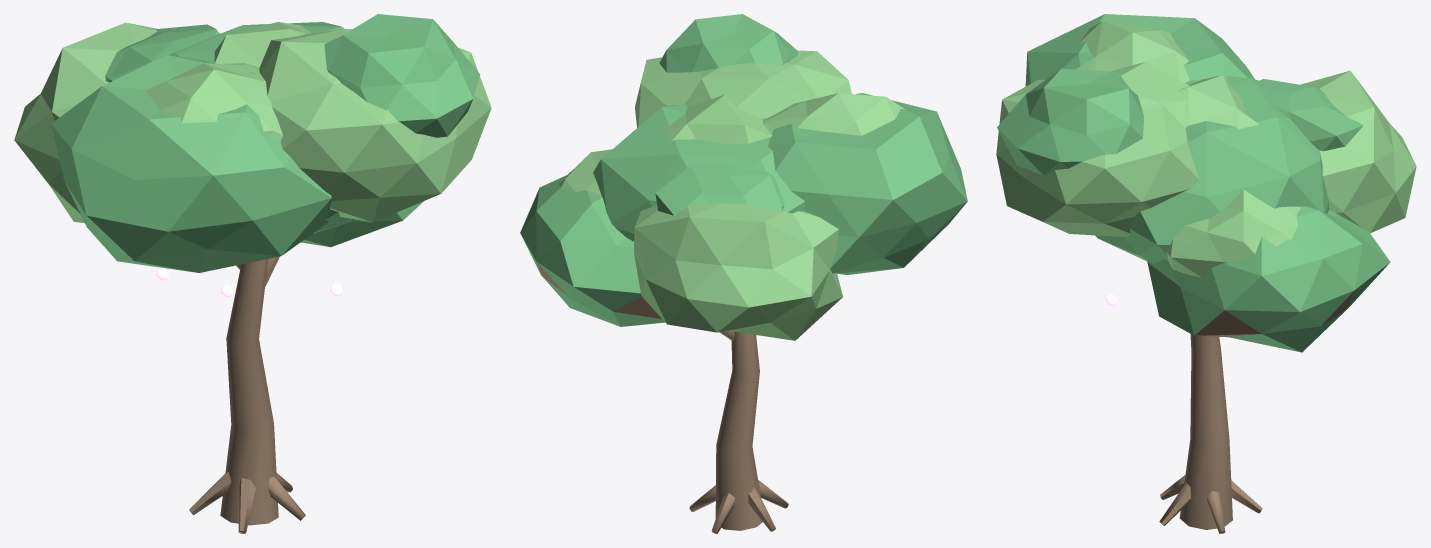
File: tree_lush.glb
3 renders of one model, left to right at view 1: azimuth 30°, elevation 25°; view 2: azimuth 150°, elevation 25°; view 3: azimuth 270°, elevation 25°, orthographic. The views are drawn at different scales.
Visible parts, largest first — view 1: Tree_Lush; view 2: Tree_Lush; view 3: Tree_Lush.
Boxes of the visible parts, left/top/right/bottom form: Tree_Lush: left=14, top=14, right=491, bottom=533; Tree_Lush: left=520, top=14, right=967, bottom=533; Tree_Lush: left=996, top=14, right=1416, bottom=533.
Size of the model in its own units: 12.4 by 14.42 by 11.63.
